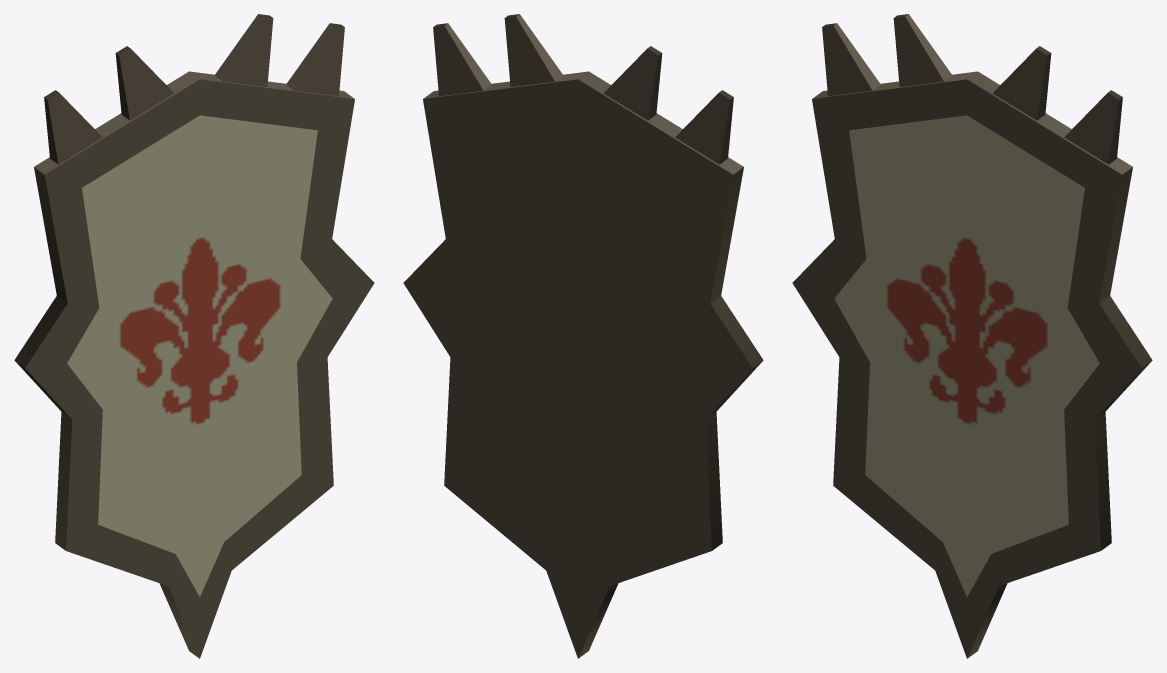
Rendered from SF_Wep_Undead_Shield_012.fbx.
The picture shows the model from 3 angles, left to right: view 1: azimuth 30°, elevation 25°; view 2: azimuth 150°, elevation 25°; view 3: azimuth 330°, elevation 25°; orthographic projection.
Visible parts, largest first — view 1: SF_Wep_Undead_Shield_012; view 2: SF_Wep_Undead_Shield_012; view 3: SF_Wep_Undead_Shield_012.
Part boxes in pixels (x1=…): SF_Wep_Undead_Shield_012: x1=14, y1=14, x2=374, y2=658; SF_Wep_Undead_Shield_012: x1=403, y1=14, x2=763, y2=658; SF_Wep_Undead_Shield_012: x1=792, y1=14, x2=1152, y2=658.
Size of the model in its own units: 1.07 by 1.82 by 0.0573.
